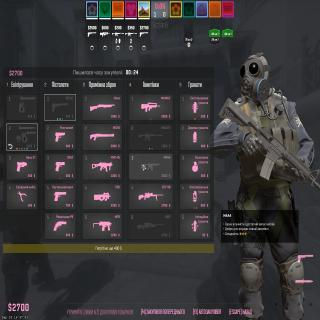CT-Body: (213, 52, 315, 320)
CT-Head: (240, 53, 270, 101)
